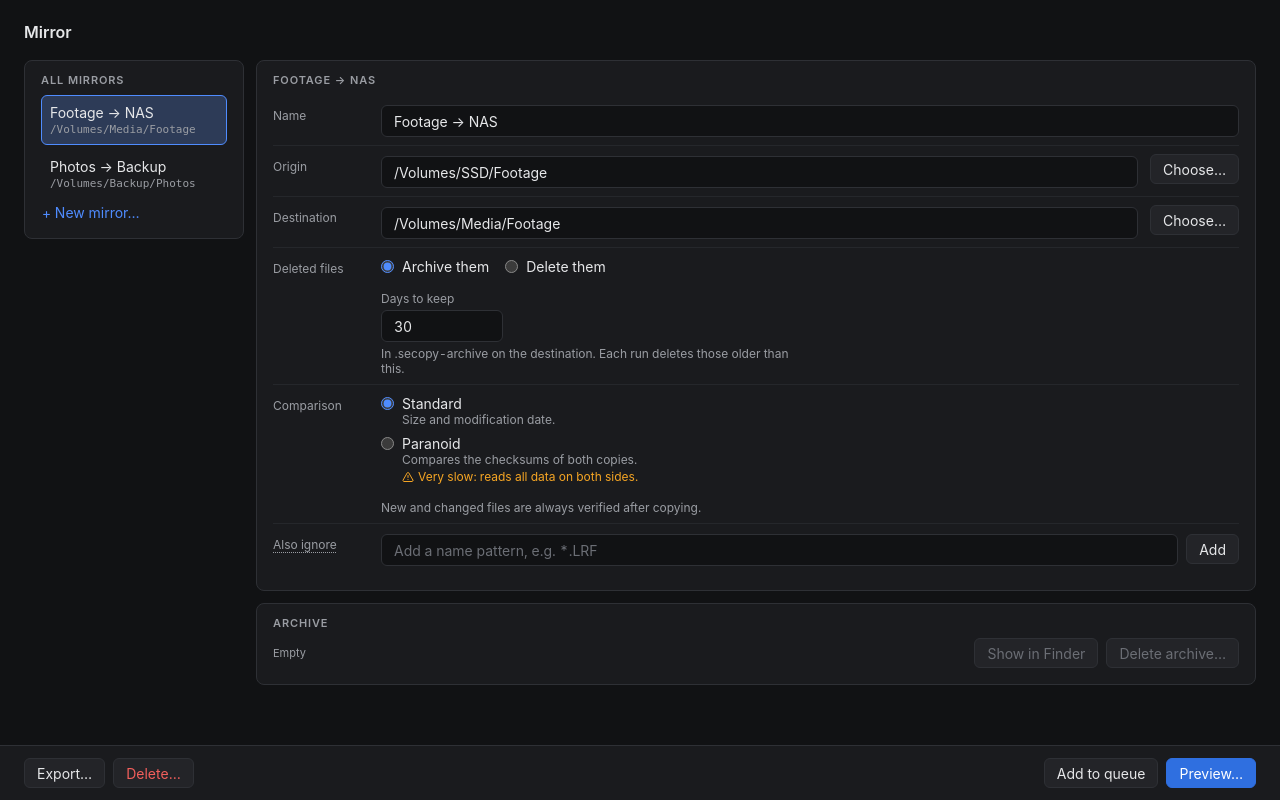
Test: MirrorScreen › an empty archive, or one whose destination isn't connected, says so; nothing to delete
This screenshot has width=1280, height=800.
Expected: the text "Empty" is shown, x1=273 y1=646 x2=306 y2=660
Expected: the button "Delete archive…" is disabled, x1=1106 y1=638 x2=1239 y2=668
Click the button "Photos → Backup /Volumes/Backup/Photos".
click(134, 174)  # box x1=41 y1=149 x2=227 y2=199
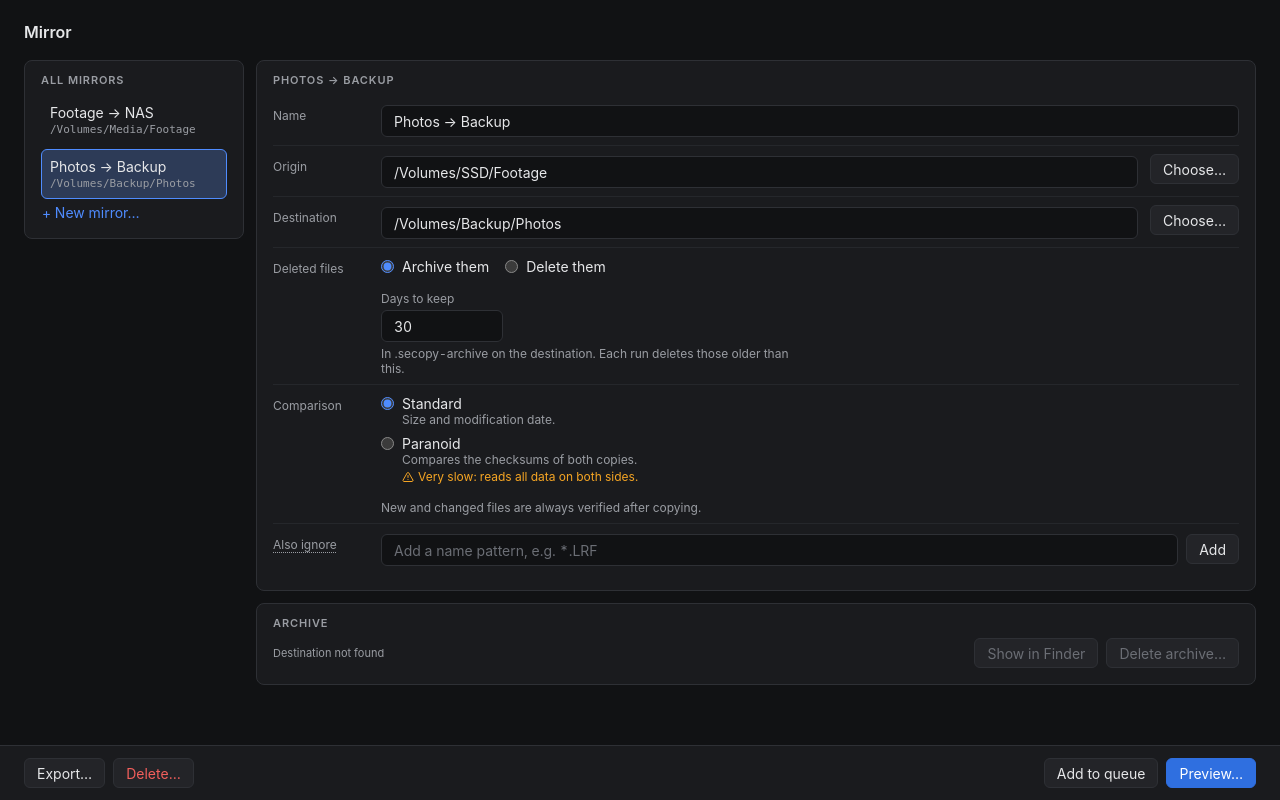
Expected: the button "Show in Finder" is disabled, x1=974 y1=638 x2=1098 y2=668
Expected: the text "Destination not found" is shown, x1=273 y1=646 x2=384 y2=660
